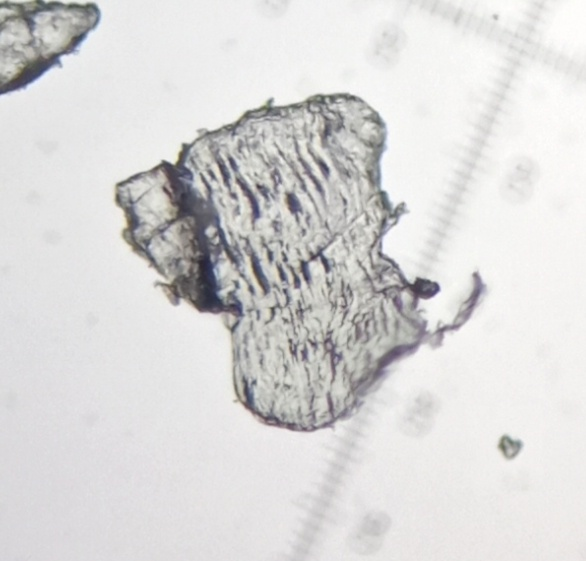microplastic: (106, 87, 490, 440), (1, 1, 106, 102), (498, 431, 527, 464)
